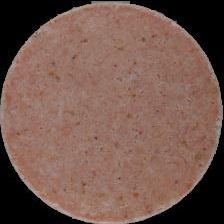0185-0620: (0, 0, 224, 224)
